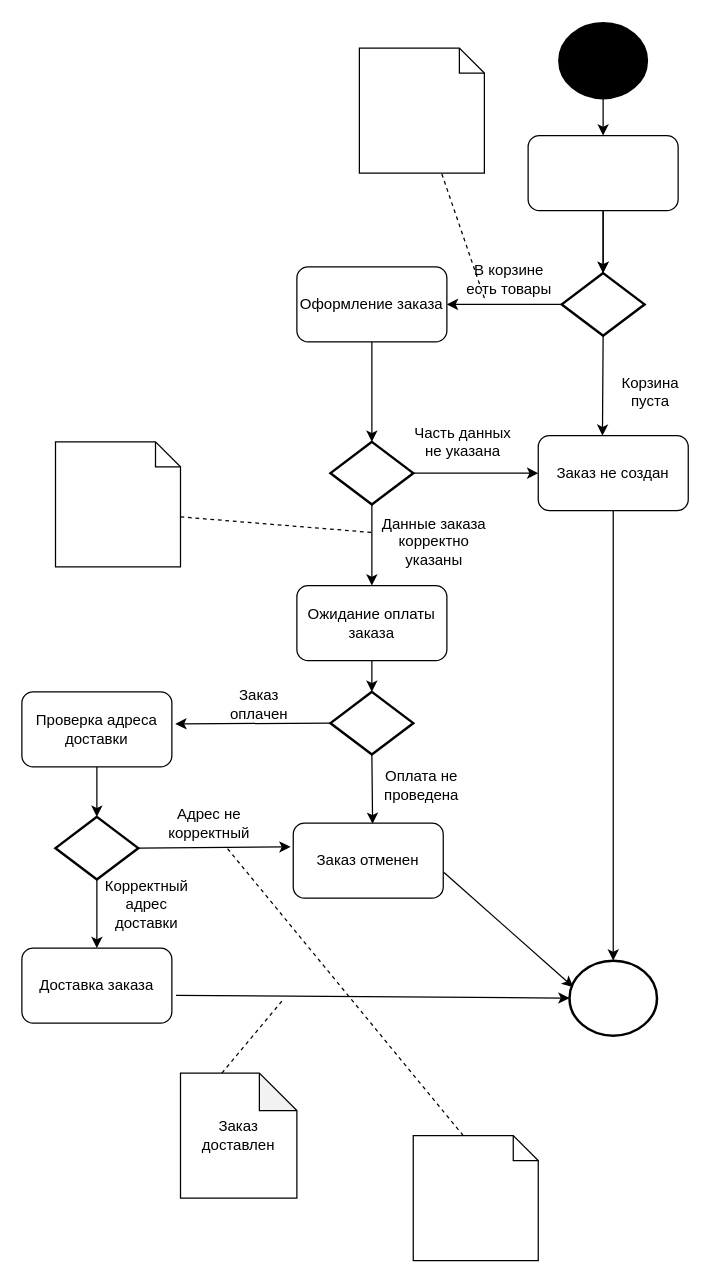
Some shapes in this 711 by 1283 pixel diagram are drawn without their labels. Each missing label, with the box of its shape:
Возврат денег покупатателю: (412, 1134, 538, 1261)
Заказ создан: (54, 441, 180, 567)
Корзина очищается. Заказ "ждёт" оформления: (358, 47, 484, 173)
Проверка корзины: (527, 134, 678, 211)
